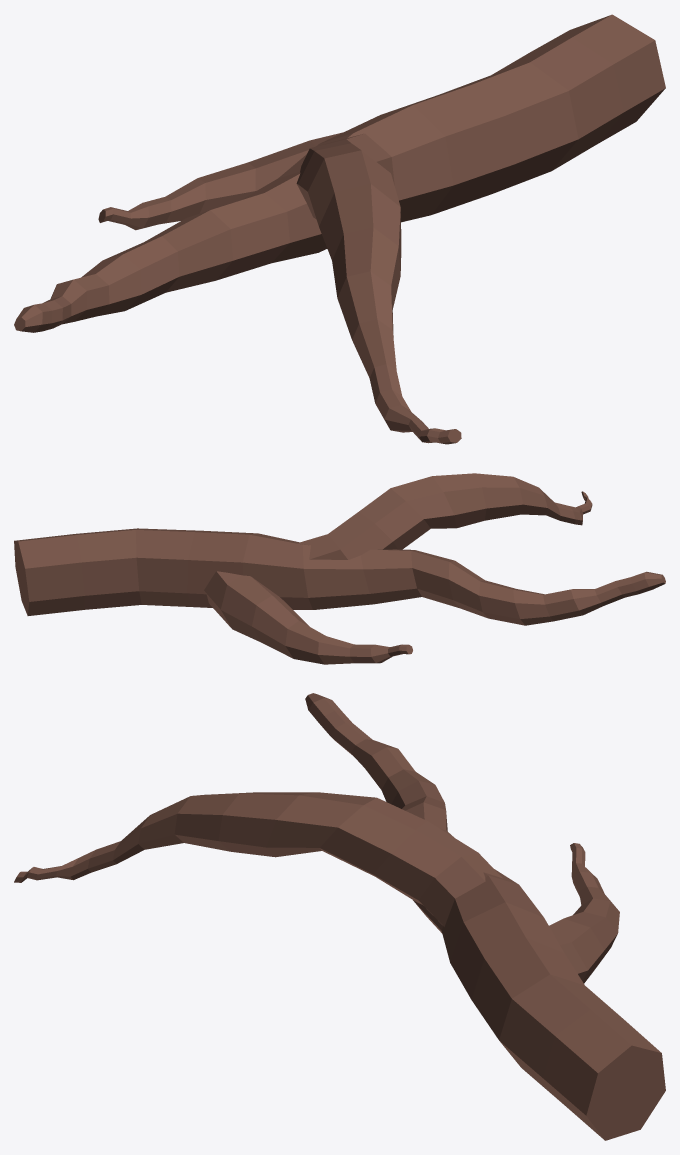
The model's file is holz.fbx.
The picture shows the model from 3 angles, top to bottom: view 1: azimuth 30°, elevation 25°; view 2: azimuth 150°, elevation 25°; view 3: azimuth 270°, elevation 25°; orthographic projection. The views are drawn at different scales.
Parts seen in each view (by area): view 1: group_1803771763, group_682894969, group_1498149783; view 2: group_1803771763, group_682894969, group_1498149783; view 3: group_1803771763, group_682894969, group_1498149783.
Boxes of the visible parts, <box> form: group_1803771763: <box>14,14,665,332</box>; group_682894969: <box>296,133,461,444</box>; group_1498149783: <box>98,132,342,230</box>; group_1803771763: <box>14,528,665,625</box>; group_682894969: <box>297,473,592,559</box>; group_1498149783: <box>204,571,412,664</box>; group_1803771763: <box>305,693,665,1140</box>; group_682894969: <box>14,792,502,926</box>; group_1498149783: <box>549,843,619,983</box>.
Size of the model in its own units: 63.29 by 12.76 by 48.68.
